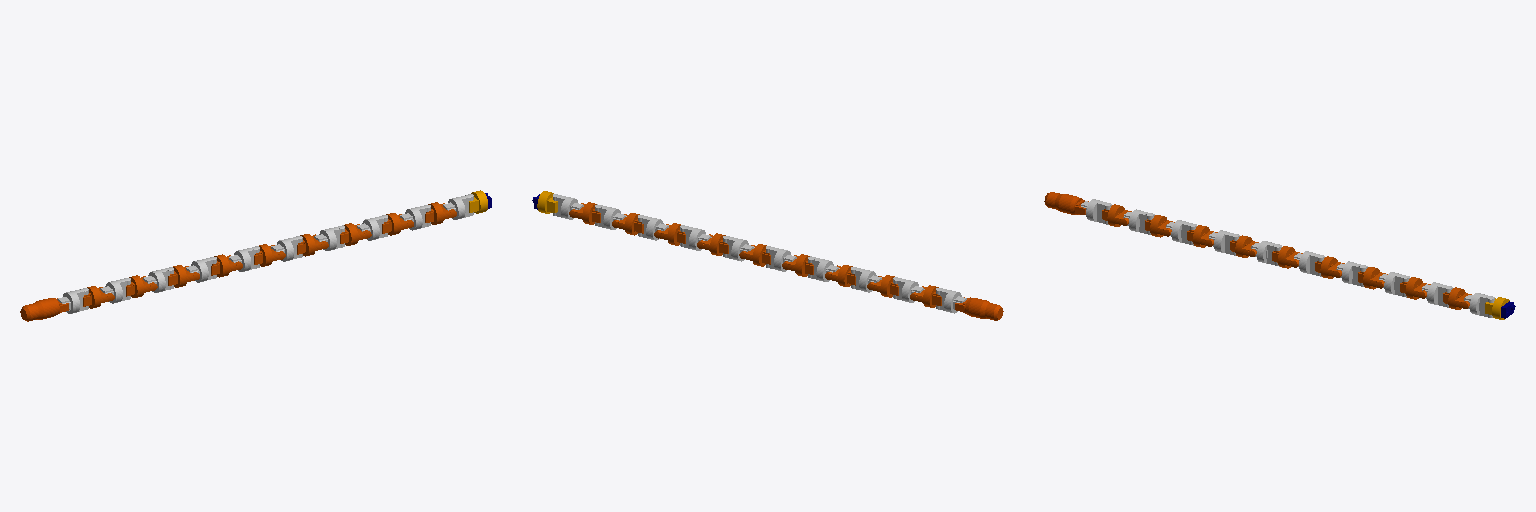
--- Facts derived from the render (not from the file) ---
3 views of the same robot in one strip: view 1: azimuth 30°, elevation 25°; view 2: azimuth 150°, elevation 25°; view 3: azimuth 330°, elevation 25° (orthographic).
Model snakebot with 21 links and 20 joints (20 revolute), rooted at link0, posed all joints at 0.
Visible links, largest first — view 1: tail_link; view 2: tail_link; view 3: tail_link.
Link boxes in pixels (x1,y1,x2,y2): tail_link: (20, 298, 68, 321); tail_link: (955, 297, 1003, 320); tail_link: (1044, 192, 1088, 214).
Bounding box of the posed robot: 1.96 × 0.0828 × 0.0827 m (x, y, z).
21 mesh visuals loaded from 4 distinct referenced files (4 Collada DAE).

The robot description file, URDF, robot "snakebot":
<?xml version="1.0" ?>
<!-- =================================================================================== -->
<!-- |    This document was autogenerated by xacro from snakebot.urdf.xacro            | -->
<!-- |    EDITING THIS FILE BY HAND IS NOT RECOMMENDED                                 | -->
<!-- =================================================================================== -->
<robot name="snakebot" xmlns:xacro="http://ros.org/wiki/xacro">
  <!-- constants -->
  <!-- arbitrary value for link mass -->
  <!-- Square dimensions of links -->
  <!-- Square dimensions of links -->
  <!-- macros -->
  <!-- joint -->
  <!-- head link (GoPro) -->
  <link name="camera_link">
    <visual>
      <geometry>
        <mesh filename="package://snakebot_description/meshes/DAE/head_link.dae"/>
      </geometry>
    </visual>
    <!-- ====== for Gazebo ======  -->
    <collision>
      <geometry>
        <mesh filename="package://snakebot_description/meshes/DAE/head_link.dae"/>
      </geometry>
    </collision>
    <inertial>
      <mass value="0.1"/>
      <inertia ixx="1.0" ixy="0.0" ixz="0.0" iyy="1.0" iyz="0.0" izz="1.0"/>
    </inertial>
    <!-- == == == == == == == == == -->
  </link>
  <!--  joints -->
  <joint name="joint0" type="revolute">
    <parent link="link0"/>
    <child link="camera_link"/>
    <origin xyz="0 0 0"/>
    <axis xyz="0 0 1"/>
    <limit effort="30" lower="-1.3" upper="1.3" velocity="1.571"/>
    <dynamics damping="0.7"/>
  </joint>
  <!-- Tail link -->
  <link name="tail_link">
    <visual>
      <geometry>
        <mesh filename="package://snakebot_description/meshes/DAE/tail_link.dae"/>
      </geometry>
    </visual>
    <!-- ======= for Gazebo ====== -->
    <collision>
      <geometry>
        <mesh filename="package://snakebot_description/meshes/DAE/tail_link.dae"/>
      </geometry>
    </collision>
    <inertial>
      <mass value="0.1"/>
      <inertia ixx="1.0" ixy="0.0" ixz="0.0" iyy="1.0" iyz="0.0" izz="1.0"/>
    </inertial>
    <!-- == == == == == == == == == -->
  </link>
  <!--  joints -->
  <joint name="joint19" type="revolute">
    <parent link="link18"/>
    <child link="tail_link"/>
    <origin xyz="-0.09 0 0"/>
    <axis xyz="0 1 0"/>
    <limit effort="30" lower="-1.3" upper="1.3" velocity="1.571"/>
    <dynamics damping="0.7"/>
  </joint>
  <!-- body units -->
  <link name="link0">
    <visual>
      <geometry>
        <mesh filename="package://snakebot_description/meshes/DAE/pitch_motor_link2.dae"/>
      </geometry>
    </visual>
    <!-- ====== for Gazebo ====== -->
    <collision>
      <geometry>
        <mesh filename="package://snakebot_description/meshes/DAE/pitch_motor_link2.dae"/>
      </geometry>
    </collision>
    <inertial>
      <mass value="0.1"/>
      <inertia ixx="1.0" ixy="0.0" ixz="0.0" iyy="1.0" iyz="0.0" izz="1.0"/>
    </inertial>
    <!-- == == == == == == == == == -->
  </link>
  <joint name="joint1" type="revolute">
    <parent link="link0"/>
    <child link="link1"/>
    <origin xyz="-0.09 0 0"/>
    <axis xyz="0 1 0"/>
    <!-- ====== for Gazebo  ======  -->
    <limit effort="30" lower="-1.3" upper="1.3" velocity="1.571"/>
    <dynamics damping="0.7"/>
    <!-- == == == == == == == == == -->
  </joint>
  <link name="link1">
    <visual>
      <geometry>
        <mesh filename="package://snakebot_description/meshes/DAE/yaw_motor_link2.dae"/>
      </geometry>
    </visual>
    <!-- ====== for Gazebo ====== -->
    <collision>
      <geometry>
        <mesh filename="package://snakebot_description/meshes/DAE/yaw_motor_link2.dae"/>
      </geometry>
    </collision>
    <inertial>
      <mass value="0.1"/>
      <inertia ixx="1.0" ixy="0.0" ixz="0.0" iyy="1.0" iyz="0.0" izz="1.0"/>
    </inertial>
    <!-- == == == == == == == == == -->
  </link>
  <joint name="joint2" type="revolute">
    <parent link="link1"/>
    <child link="link2"/>
    <origin xyz="-0.09 0 0"/>
    <axis xyz="0 0 1"/>
    <!-- ====== for Gazebo  ======  -->
    <limit effort="30" lower="-1.3" upper="1.3" velocity="1.571"/>
    <dynamics damping="0.7"/>
    <!-- == == == == == == == == == -->
  </joint>
  <link name="link2">
    <visual>
      <geometry>
        <mesh filename="package://snakebot_description/meshes/DAE/pitch_motor_link2.dae"/>
      </geometry>
    </visual>
    <!-- ====== for Gazebo ====== -->
    <collision>
      <geometry>
        <mesh filename="package://snakebot_description/meshes/DAE/pitch_motor_link2.dae"/>
      </geometry>
    </collision>
    <inertial>
      <mass value="0.1"/>
      <inertia ixx="1.0" ixy="0.0" ixz="0.0" iyy="1.0" iyz="0.0" izz="1.0"/>
    </inertial>
    <!-- == == == == == == == == == -->
  </link>
  <joint name="joint3" type="revolute">
    <parent link="link2"/>
    <child link="link3"/>
    <origin xyz="-0.09 0 0"/>
    <axis xyz="0 1 0"/>
    <!-- ====== for Gazebo  ======  -->
    <limit effort="30" lower="-1.3" upper="1.3" velocity="1.571"/>
    <dynamics damping="0.7"/>
    <!-- == == == == == == == == == -->
  </joint>
  <link name="link3">
    <visual>
      <geometry>
        <mesh filename="package://snakebot_description/meshes/DAE/yaw_motor_link2.dae"/>
      </geometry>
    </visual>
    <!-- ====== for Gazebo ====== -->
    <collision>
      <geometry>
        <mesh filename="package://snakebot_description/meshes/DAE/yaw_motor_link2.dae"/>
      </geometry>
    </collision>
    <inertial>
      <mass value="0.1"/>
      <inertia ixx="1.0" ixy="0.0" ixz="0.0" iyy="1.0" iyz="0.0" izz="1.0"/>
    </inertial>
    <!-- == == == == == == == == == -->
  </link>
  <joint name="joint4" type="revolute">
    <parent link="link3"/>
    <child link="link4"/>
    <origin xyz="-0.09 0 0"/>
    <axis xyz="0 0 1"/>
    <!-- ====== for Gazebo  ======  -->
    <limit effort="30" lower="-1.3" upper="1.3" velocity="1.571"/>
    <dynamics damping="0.7"/>
    <!-- == == == == == == == == == -->
  </joint>
  <link name="link4">
    <visual>
      <geometry>
        <mesh filename="package://snakebot_description/meshes/DAE/pitch_motor_link2.dae"/>
      </geometry>
    </visual>
    <!-- ====== for Gazebo ====== -->
    <collision>
      <geometry>
        <mesh filename="package://snakebot_description/meshes/DAE/pitch_motor_link2.dae"/>
      </geometry>
    </collision>
    <inertial>
      <mass value="0.1"/>
      <inertia ixx="1.0" ixy="0.0" ixz="0.0" iyy="1.0" iyz="0.0" izz="1.0"/>
    </inertial>
    <!-- == == == == == == == == == -->
  </link>
  <joint name="joint5" type="revolute">
    <parent link="link4"/>
    <child link="link5"/>
    <origin xyz="-0.09 0 0"/>
    <axis xyz="0 1 0"/>
    <!-- ====== for Gazebo  ======  -->
    <limit effort="30" lower="-1.3" upper="1.3" velocity="1.571"/>
    <dynamics damping="0.7"/>
    <!-- == == == == == == == == == -->
  </joint>
  <link name="link5">
    <visual>
      <geometry>
        <mesh filename="package://snakebot_description/meshes/DAE/yaw_motor_link2.dae"/>
      </geometry>
    </visual>
    <!-- ====== for Gazebo ====== -->
    <collision>
      <geometry>
        <mesh filename="package://snakebot_description/meshes/DAE/yaw_motor_link2.dae"/>
      </geometry>
    </collision>
    <inertial>
      <mass value="0.1"/>
      <inertia ixx="1.0" ixy="0.0" ixz="0.0" iyy="1.0" iyz="0.0" izz="1.0"/>
    </inertial>
    <!-- == == == == == == == == == -->
  </link>
  <joint name="joint6" type="revolute">
    <parent link="link5"/>
    <child link="link6"/>
    <origin xyz="-0.09 0 0"/>
    <axis xyz="0 0 1"/>
    <!-- ====== for Gazebo  ======  -->
    <limit effort="30" lower="-1.3" upper="1.3" velocity="1.571"/>
    <dynamics damping="0.7"/>
    <!-- == == == == == == == == == -->
  </joint>
  <link name="link6">
    <visual>
      <geometry>
        <mesh filename="package://snakebot_description/meshes/DAE/pitch_motor_link2.dae"/>
      </geometry>
    </visual>
    <!-- ====== for Gazebo ====== -->
    <collision>
      <geometry>
        <mesh filename="package://snakebot_description/meshes/DAE/pitch_motor_link2.dae"/>
      </geometry>
    </collision>
    <inertial>
      <mass value="0.1"/>
      <inertia ixx="1.0" ixy="0.0" ixz="0.0" iyy="1.0" iyz="0.0" izz="1.0"/>
    </inertial>
    <!-- == == == == == == == == == -->
  </link>
  <joint name="joint7" type="revolute">
    <parent link="link6"/>
    <child link="link7"/>
    <origin xyz="-0.09 0 0"/>
    <axis xyz="0 1 0"/>
    <!-- ====== for Gazebo  ======  -->
    <limit effort="30" lower="-1.3" upper="1.3" velocity="1.571"/>
    <dynamics damping="0.7"/>
    <!-- == == == == == == == == == -->
  </joint>
  <link name="link7">
    <visual>
      <geometry>
        <mesh filename="package://snakebot_description/meshes/DAE/yaw_motor_link2.dae"/>
      </geometry>
    </visual>
    <!-- ====== for Gazebo ====== -->
    <collision>
      <geometry>
        <mesh filename="package://snakebot_description/meshes/DAE/yaw_motor_link2.dae"/>
      </geometry>
    </collision>
    <inertial>
      <mass value="0.1"/>
      <inertia ixx="1.0" ixy="0.0" ixz="0.0" iyy="1.0" iyz="0.0" izz="1.0"/>
    </inertial>
    <!-- == == == == == == == == == -->
  </link>
  <joint name="joint8" type="revolute">
    <parent link="link7"/>
    <child link="link8"/>
    <origin xyz="-0.09 0 0"/>
    <axis xyz="0 0 1"/>
    <!-- ====== for Gazebo  ======  -->
    <limit effort="30" lower="-1.3" upper="1.3" velocity="1.571"/>
    <dynamics damping="0.7"/>
    <!-- == == == == == == == == == -->
  </joint>
  <link name="link8">
    <visual>
      <geometry>
        <mesh filename="package://snakebot_description/meshes/DAE/pitch_motor_link2.dae"/>
      </geometry>
    </visual>
    <!-- ====== for Gazebo ====== -->
    <collision>
      <geometry>
        <mesh filename="package://snakebot_description/meshes/DAE/pitch_motor_link2.dae"/>
      </geometry>
    </collision>
    <inertial>
      <mass value="0.1"/>
      <inertia ixx="1.0" ixy="0.0" ixz="0.0" iyy="1.0" iyz="0.0" izz="1.0"/>
    </inertial>
    <!-- == == == == == == == == == -->
  </link>
  <joint name="joint9" type="revolute">
    <parent link="link8"/>
    <child link="link9"/>
    <origin xyz="-0.09 0 0"/>
    <axis xyz="0 1 0"/>
    <!-- ====== for Gazebo  ======  -->
    <limit effort="30" lower="-1.3" upper="1.3" velocity="1.571"/>
    <dynamics damping="0.7"/>
    <!-- == == == == == == == == == -->
  </joint>
  <link name="link9">
    <visual>
      <geometry>
        <mesh filename="package://snakebot_description/meshes/DAE/yaw_motor_link2.dae"/>
      </geometry>
    </visual>
    <!-- ====== for Gazebo ====== -->
    <collision>
      <geometry>
        <mesh filename="package://snakebot_description/meshes/DAE/yaw_motor_link2.dae"/>
      </geometry>
    </collision>
    <inertial>
      <mass value="0.1"/>
      <inertia ixx="1.0" ixy="0.0" ixz="0.0" iyy="1.0" iyz="0.0" izz="1.0"/>
    </inertial>
    <!-- == == == == == == == == == -->
  </link>
  <joint name="joint10" type="revolute">
    <parent link="link9"/>
    <child link="link10"/>
    <origin xyz="-0.09 0 0"/>
    <axis xyz="0 0 1"/>
    <!-- ====== for Gazebo  ======  -->
    <limit effort="30" lower="-1.3" upper="1.3" velocity="1.571"/>
    <dynamics damping="0.7"/>
    <!-- == == == == == == == == == -->
  </joint>
  <link name="link10">
    <visual>
      <geometry>
        <mesh filename="package://snakebot_description/meshes/DAE/pitch_motor_link2.dae"/>
      </geometry>
    </visual>
    <!-- ====== for Gazebo ====== -->
    <collision>
      <geometry>
        <mesh filename="package://snakebot_description/meshes/DAE/pitch_motor_link2.dae"/>
      </geometry>
    </collision>
    <inertial>
      <mass value="0.1"/>
      <inertia ixx="1.0" ixy="0.0" ixz="0.0" iyy="1.0" iyz="0.0" izz="1.0"/>
    </inertial>
    <!-- == == == == == == == == == -->
  </link>
  <joint name="joint11" type="revolute">
    <parent link="link10"/>
    <child link="link11"/>
    <origin xyz="-0.09 0 0"/>
    <axis xyz="0 1 0"/>
    <!-- ====== for Gazebo  ======  -->
    <limit effort="30" lower="-1.3" upper="1.3" velocity="1.571"/>
    <dynamics damping="0.7"/>
    <!-- == == == == == == == == == -->
  </joint>
  <link name="link11">
    <visual>
      <geometry>
        <mesh filename="package://snakebot_description/meshes/DAE/yaw_motor_link2.dae"/>
      </geometry>
    </visual>
    <!-- ====== for Gazebo ====== -->
    <collision>
      <geometry>
        <mesh filename="package://snakebot_description/meshes/DAE/yaw_motor_link2.dae"/>
      </geometry>
    </collision>
    <inertial>
      <mass value="0.1"/>
      <inertia ixx="1.0" ixy="0.0" ixz="0.0" iyy="1.0" iyz="0.0" izz="1.0"/>
    </inertial>
    <!-- == == == == == == == == == -->
  </link>
  <joint name="joint12" type="revolute">
    <parent link="link11"/>
    <child link="link12"/>
    <origin xyz="-0.09 0 0"/>
    <axis xyz="0 0 1"/>
    <!-- ====== for Gazebo  ======  -->
    <limit effort="30" lower="-1.3" upper="1.3" velocity="1.571"/>
    <dynamics damping="0.7"/>
    <!-- == == == == == == == == == -->
  </joint>
  <link name="link12">
    <visual>
      <geometry>
        <mesh filename="package://snakebot_description/meshes/DAE/pitch_motor_link2.dae"/>
      </geometry>
    </visual>
    <!-- ====== for Gazebo ====== -->
    <collision>
      <geometry>
        <mesh filename="package://snakebot_description/meshes/DAE/pitch_motor_link2.dae"/>
      </geometry>
    </collision>
    <inertial>
      <mass value="0.1"/>
      <inertia ixx="1.0" ixy="0.0" ixz="0.0" iyy="1.0" iyz="0.0" izz="1.0"/>
    </inertial>
    <!-- == == == == == == == == == -->
  </link>
  <joint name="joint13" type="revolute">
    <parent link="link12"/>
    <child link="link13"/>
    <origin xyz="-0.09 0 0"/>
    <axis xyz="0 1 0"/>
    <!-- ====== for Gazebo  ======  -->
    <limit effort="30" lower="-1.3" upper="1.3" velocity="1.571"/>
    <dynamics damping="0.7"/>
    <!-- == == == == == == == == == -->
  </joint>
  <link name="link13">
    <visual>
      <geometry>
        <mesh filename="package://snakebot_description/meshes/DAE/yaw_motor_link2.dae"/>
      </geometry>
    </visual>
    <!-- ====== for Gazebo ====== -->
    <collision>
      <geometry>
        <mesh filename="package://snakebot_description/meshes/DAE/yaw_motor_link2.dae"/>
      </geometry>
    </collision>
    <inertial>
      <mass value="0.1"/>
      <inertia ixx="1.0" ixy="0.0" ixz="0.0" iyy="1.0" iyz="0.0" izz="1.0"/>
    </inertial>
    <!-- == == == == == == == == == -->
  </link>
  <joint name="joint14" type="revolute">
    <parent link="link13"/>
    <child link="link14"/>
    <origin xyz="-0.09 0 0"/>
    <axis xyz="0 0 1"/>
    <!-- ====== for Gazebo  ======  -->
    <limit effort="30" lower="-1.3" upper="1.3" velocity="1.571"/>
    <dynamics damping="0.7"/>
    <!-- == == == == == == == == == -->
  </joint>
  <link name="link14">
    <visual>
      <geometry>
        <mesh filename="package://snakebot_description/meshes/DAE/pitch_motor_link2.dae"/>
      </geometry>
    </visual>
    <!-- ====== for Gazebo ====== -->
    <collision>
      <geometry>
        <mesh filename="package://snakebot_description/meshes/DAE/pitch_motor_link2.dae"/>
      </geometry>
    </collision>
    <inertial>
      <mass value="0.1"/>
      <inertia ixx="1.0" ixy="0.0" ixz="0.0" iyy="1.0" iyz="0.0" izz="1.0"/>
    </inertial>
    <!-- == == == == == == == == == -->
  </link>
  <joint name="joint15" type="revolute">
    <parent link="link14"/>
    <child link="link15"/>
    <origin xyz="-0.09 0 0"/>
    <axis xyz="0 1 0"/>
    <!-- ====== for Gazebo  ======  -->
    <limit effort="30" lower="-1.3" upper="1.3" velocity="1.571"/>
    <dynamics damping="0.7"/>
    <!-- == == == == == == == == == -->
  </joint>
  <link name="link15">
    <visual>
      <geometry>
        <mesh filename="package://snakebot_description/meshes/DAE/yaw_motor_link2.dae"/>
      </geometry>
    </visual>
    <!-- ====== for Gazebo ====== -->
    <collision>
      <geometry>
        <mesh filename="package://snakebot_description/meshes/DAE/yaw_motor_link2.dae"/>
      </geometry>
    </collision>
    <inertial>
      <mass value="0.1"/>
      <inertia ixx="1.0" ixy="0.0" ixz="0.0" iyy="1.0" iyz="0.0" izz="1.0"/>
    </inertial>
    <!-- == == == == == == == == == -->
  </link>
  <joint name="joint16" type="revolute">
    <parent link="link15"/>
    <child link="link16"/>
    <origin xyz="-0.09 0 0"/>
    <axis xyz="0 0 1"/>
    <!-- ====== for Gazebo  ======  -->
    <limit effort="30" lower="-1.3" upper="1.3" velocity="1.571"/>
    <dynamics damping="0.7"/>
    <!-- == == == == == == == == == -->
  </joint>
  <link name="link16">
    <visual>
      <geometry>
        <mesh filename="package://snakebot_description/meshes/DAE/pitch_motor_link2.dae"/>
      </geometry>
    </visual>
    <!-- ====== for Gazebo ====== -->
    <collision>
      <geometry>
        <mesh filename="package://snakebot_description/meshes/DAE/pitch_motor_link2.dae"/>
      </geometry>
    </collision>
    <inertial>
      <mass value="0.1"/>
      <inertia ixx="1.0" ixy="0.0" ixz="0.0" iyy="1.0" iyz="0.0" izz="1.0"/>
    </inertial>
    <!-- == == == == == == == == == -->
  </link>
  <joint name="joint17" type="revolute">
    <parent link="link16"/>
    <child link="link17"/>
    <origin xyz="-0.09 0 0"/>
    <axis xyz="0 1 0"/>
    <!-- ====== for Gazebo  ======  -->
    <limit effort="30" lower="-1.3" upper="1.3" velocity="1.571"/>
    <dynamics damping="0.7"/>
    <!-- == == == == == == == == == -->
  </joint>
  <link name="link17">
    <visual>
      <geometry>
        <mesh filename="package://snakebot_description/meshes/DAE/yaw_motor_link2.dae"/>
      </geometry>
    </visual>
    <!-- ====== for Gazebo ====== -->
    <collision>
      <geometry>
        <mesh filename="package://snakebot_description/meshes/DAE/yaw_motor_link2.dae"/>
      </geometry>
    </collision>
    <inertial>
      <mass value="0.1"/>
      <inertia ixx="1.0" ixy="0.0" ixz="0.0" iyy="1.0" iyz="0.0" izz="1.0"/>
    </inertial>
    <!-- == == == == == == == == == -->
  </link>
  <joint name="joint18" type="revolute">
    <parent link="link17"/>
    <child link="link18"/>
    <origin xyz="-0.09 0 0"/>
    <axis xyz="0 0 1"/>
    <!-- ====== for Gazebo  ======  -->
    <limit effort="30" lower="-1.3" upper="1.3" velocity="1.571"/>
    <dynamics damping="0.7"/>
    <!-- == == == == == == == == == -->
  </joint>
  <link name="link18">
    <visual>
      <geometry>
        <mesh filename="package://snakebot_description/meshes/DAE/pitch_motor_link2.dae"/>
      </geometry>
    </visual>
    <!-- ====== for Gazebo ====== -->
    <collision>
      <geometry>
        <mesh filename="package://snakebot_description/meshes/DAE/pitch_motor_link2.dae"/>
      </geometry>
    </collision>
    <inertial>
      <mass value="0.1"/>
      <inertia ixx="1.0" ixy="0.0" ixz="0.0" iyy="1.0" iyz="0.0" izz="1.0"/>
    </inertial>
    <!-- == == == == == == == == == -->
  </link>
  <!-- <xacro:snakebot_joint index="21" pl_index="20" isPitch="true"/> -->
  <!-- <xacro:snakebot_link index="21" isHead="false" isMotorLink="false"/>-->
  <!-- <xacro:snakebot_joint index="22" pl_index="21" isPitch="false"/> -->
  <!-- <xacro:snakebot_link index="22" isHead="false" isMotorLink="true"/> -->
  <!-- <xacro:snakebot_joint index="23" pl_index="22" isPitch="true"/> -->
  <!-- <xacro:snakebot_link index="23" isHead="false" isMotorLink="false"/> -->
  <!-- <xacro:snakebot_joint index="24" pl_index="23" isPitch="false"/> -->
  <!-- <xacro:snakebot_link index="24" isHead="false" isMotorLink="true"/> -->
  <!-- <xacro:snakebot_joint index="25" pl_index="24" isPitch="true"/> -->
  <!-- <xacro:snakebot_link index="25" isHead="false" isMotorLink="false"/> -->
  <!-- <xacro:snakebot_joint index="26" pl_index="25" isPitch="false"/> -->
  <!-- <xacro:snakebot_link index="26" isHead="false" isMotorLink="true"/> -->
  <!-- <xacro:snakebot_joint index="27" pl_index="26" isPitch="true"/> -->
  <!-- <xacro:snakebot_link index="27" isHead="false" isMotorLink="false"/> -->
  <!-- <xacro:snakebot_joint index="28" pl_index="27" isPitch="false"/> -->
  <!-- <xacro:snakebot_link index="28" isHead="false" isMotorLink="true"/> -->
  <!-- <xacro:snakebot_joint index="29" pl_index="28" isPitch="true"/> -->
  <!-- <xacro:snakebot_link index="29" isHead="false" isMotorLink="false"/> -->
  <!-- <xacro:snakebot_joint index="30" pl_index="29" isPitch="false"/> -->
  <!-- <xacro:snakebot_link index="30" isHead="false" isMotorLink="true"/> -->
  <!-- tail unit must be here -->
  <!-- =============== Gazebo =============== -->
  <gazebo>
    <plugin filename="libgazebo_ros_control.so" name="gazebo_ros_control">
      <robotNamespace>snakebot</robotNamespace>
      <robotSimType>gazebo_ros_control/DefaultRobotHWSim</robotSimType>
    </plugin>
  </gazebo>
  <gazebo reference="camera_link">
    <selfCollide>true</selfCollide>
    <mu1 value="0.05"/>
    <mu2 value="0.05"/>
  </gazebo>
  <transmission name="tran_camera">
    <type>transmission_interface/SimpleTransmission</type>
    <joint name="joint0">
      <hardwareInterface>EffortJointInterface</hardwareInterface>
    </joint>
    <actuator name="motor_camera">
      <hardwareInterface>EffortJointInterface</hardwareInterface>
      <mechanicalReduction>1</mechanicalReduction>
    </actuator>
  </transmission>
  <!-- body units -->
  <gazebo reference="link1">
    <selfCollide>true</selfCollide>
    <mu1 value="0.05"/>
    <mu2 value="0.05"/>
  </gazebo>
  <transmission name="tran1">
    <type>transmission_interface/SimpleTransmission</type>
    <joint name="joint1">
      <hardwareInterface>EffortJointInterface</hardwareInterface>
    </joint>
    <actuator name="{motor_name}1">
      <hardwareInterface>EffortJointInterface</hardwareInterface>
      <mechanicalReduction>1</mechanicalReduction>
    </actuator>
  </transmission>
  <gazebo reference="link2">
    <selfCollide>true</selfCollide>
    <mu1 value="0.05"/>
    <mu2 value="0.05"/>
  </gazebo>
  <transmission name="tran2">
    <type>transmission_interface/SimpleTransmission</type>
    <joint name="joint2">
      <hardwareInterface>EffortJointInterface</hardwareInterface>
    </joint>
    <actuator name="{motor_name}2">
      <hardwareInterface>EffortJointInterface</hardwareInterface>
      <mechanicalReduction>1</mechanicalReduction>
    </actuator>
  </transmission>
  <gazebo reference="link3">
    <selfCollide>true</selfCollide>
    <mu1 value="0.05"/>
    <mu2 value="0.05"/>
  </gazebo>
  <transmission name="tran3">
    <type>transmission_interface/SimpleTransmission</type>
    <joint name="joint3">
      <hardwareInterface>EffortJointInterface</hardwareInterface>
    </joint>
    <actuator name="{motor_name}3">
      <hardwareInterface>EffortJointInterface</hardwareInterface>
      <mechanicalReduction>1</mechanicalReduction>
    </actuator>
  </transmission>
  <gazebo reference="link4">
    <selfCollide>true</selfCollide>
    <mu1 value="0.05"/>
    <mu2 value="0.05"/>
  </gazebo>
  <transmission name="tran4">
    <type>transmission_interface/SimpleTransmission</type>
    <joint name="joint4">
      <hardwareInterface>EffortJointInterface</hardwareInterface>
    </joint>
    <actuator name="{motor_name}4">
      <hardwareInterface>EffortJointInterface</hardwareInterface>
      <mechanicalReduction>1</mechanicalReduction>
    </actuator>
  </transmission>
  <gazebo reference="link5">
    <selfCollide>true</selfCollide>
    <mu1 value="0.05"/>
    <mu2 value="0.05"/>
  </gazebo>
  <transmission name="tran5">
    <type>transmission_interface/SimpleTransmission</type>
    <joint name="joint5">
      <hardwareInterface>EffortJointInterface</hardwareInterface>
    </joint>
    <actuator name="{motor_name}5">
      <hardwareInterface>EffortJointInterface</hardwareInterface>
      <mechanicalReduction>1</mechanicalReduction>
    </actuator>
  </transmission>
  <gazebo reference="link6">
    <selfCollide>true</selfCollide>
    <mu1 value="0.05"/>
    <mu2 value="0.05"/>
  </gazebo>
  <transmission name="tran6">
    <type>transmission_interface/SimpleTransmission</type>
    <joint name="joint6">
      <hardwareInterface>EffortJointInterface</hardwareInterface>
    </joint>
    <actuator name="{motor_name}6">
      <hardwareInterface>EffortJointInterface</hardwareInterface>
      <mechanicalReduction>1</mechanicalReduction>
    </actuator>
  </transmission>
  <gazebo reference="link7">
    <selfCollide>true</selfCollide>
    <mu1 value="0.05"/>
    <mu2 value="0.05"/>
  </gazebo>
  <transmission name="tran7">
    <type>transmission_interface/SimpleTransmission</type>
    <joint name="joint7">
      <hardwareInterface>EffortJointInterface</hardwareInterface>
    </joint>
    <actuator name="{motor_name}7">
      <hardwareInterface>EffortJointInterface</hardwareInterface>
      <mechanicalReduction>1</mechanicalReduction>
    </actuator>
  </transmission>
  <gazebo reference="link8">
    <selfCollide>true</selfCollide>
    <mu1 value="0.05"/>
    <mu2 value="0.05"/>
  </gazebo>
  <transmission name="tran8">
    <type>transmission_interface/SimpleTransmission</type>
    <joint name="joint8">
      <hardwareInterface>EffortJointInterface</hardwareInterface>
    </joint>
    <actuator name="{motor_name}8">
      <hardwareInterface>EffortJointInterface</hardwareInterface>
      <mechanicalReduction>1</mechanicalReduction>
    </actuator>
  </transmission>
  <gazebo reference="link9">
    <selfCollide>true</selfCollide>
    <mu1 value="0.05"/>
    <mu2 value="0.05"/>
  </gazebo>
  <transmission name="tran9">
    <type>transmission_interface/SimpleTransmission</type>
    <joint name="joint9">
      <hardwareInterface>EffortJointInterface</hardwareInterface>
    </joint>
    <actuator name="{motor_name}9">
      <hardwareInterface>EffortJointInterface</hardwareInterface>
      <mechanicalReduction>1</mechanicalReduction>
    </actuator>
  </transmission>
  <gazebo reference="link10">
    <selfCollide>true</selfCollide>
    <mu1 value="0.05"/>
    <mu2 value="0.05"/>
  </gazebo>
  <transmission name="tran10">
    <type>transmission_interface/SimpleTransmission</type>
    <joint name="joint10">
      <hardwareInterface>EffortJointInterface</hardwareInterface>
    </joint>
    <actuator name="{motor_name}10">
      <hardwareInterface>EffortJointInterface</hardwareInterface>
      <mechanicalReduction>1</mechanicalReduction>
    </actuator>
  </transmission>
  <gazebo reference="link11">
    <selfCollide>true</selfCollide>
    <mu1 value="0.05"/>
    <mu2 value="0.05"/>
  </gazebo>
  <transmission name="tran11">
    <type>transmission_interface/SimpleTransmission</type>
    <joint name="joint11">
      <hardwareInterface>EffortJointInterface</hardwareInterface>
    </joint>
    <actuator name="{motor_name}11">
      <hardwareInterface>EffortJointInterface</hardwareInterface>
      <mechanicalReduction>1</mechanicalReduction>
    </actuator>
  </transmission>
  <gazebo reference="link12">
    <selfCollide>true</selfCollide>
    <mu1 value="0.05"/>
    <mu2 value="0.05"/>
  </gazebo>
  <transmission name="tran12">
    <type>transmission_interface/SimpleTransmission</type>
    <joint name="joint12">
      <hardwareInterface>EffortJointInterface</hardwareInterface>
    </joint>
    <actuator name="{motor_name}12">
      <hardwareInterface>EffortJointInterface</hardwareInterface>
      <mechanicalReduction>1</mechanicalReduction>
    </actuator>
  </transmission>
  <gazebo reference="link13">
    <selfCollide>true</selfCollide>
    <mu1 value="0.05"/>
    <mu2 value="0.05"/>
  </gazebo>
  <transmission name="tran13">
    <type>transmission_interface/SimpleTransmission</type>
    <joint name="joint13">
      <hardwareInterface>EffortJointInterface</hardwareInterface>
    </joint>
    <actuator name="{motor_name}13">
      <hardwareInterface>EffortJointInterface</hardwareInterface>
      <mechanicalReduction>1</mechanicalReduction>
    </actuator>
  </transmission>
  <gazebo reference="link14">
    <selfCollide>true</selfCollide>
    <mu1 value="0.05"/>
    <mu2 value="0.05"/>
  </gazebo>
  <transmission name="tran14">
    <type>transmission_interface/SimpleTransmission</type>
    <joint name="joint14">
      <hardwareInterface>EffortJointInterface</hardwareInterface>
    </joint>
    <actuator name="{motor_name}14">
      <hardwareInterface>EffortJointInterface</hardwareInterface>
      <mechanicalReduction>1</mechanicalReduction>
    </actuator>
  </transmission>
  <gazebo reference="link15">
    <selfCollide>true</selfCollide>
    <mu1 value="0.05"/>
    <mu2 value="0.05"/>
  </gazebo>
  <transmission name="tran15">
    <type>transmission_interface/SimpleTransmission</type>
    <joint name="joint15">
      <hardwareInterface>EffortJointInterface</hardwareInterface>
    </joint>
    <actuator name="{motor_name}15">
      <hardwareInterface>EffortJointInterface</hardwareInterface>
      <mechanicalReduction>1</mechanicalReduction>
    </actuator>
  </transmission>
  <gazebo reference="link16">
    <selfCollide>true</selfCollide>
    <mu1 value="0.05"/>
    <mu2 value="0.05"/>
  </gazebo>
  <transmission name="tran16">
    <type>transmission_interface/SimpleTransmission</type>
    <joint name="joint16">
      <hardwareInterface>EffortJointInterface</hardwareInterface>
    </joint>
    <actuator name="{motor_name}16">
      <hardwareInterface>EffortJointInterface</hardwareInterface>
      <mechanicalReduction>1</mechanicalReduction>
    </actuator>
  </transmission>
  <gazebo reference="link17">
    <selfCollide>true</selfCollide>
    <mu1 value="0.05"/>
    <mu2 value="0.05"/>
  </gazebo>
  <transmission name="tran17">
    <type>transmission_interface/SimpleTransmission</type>
    <joint name="joint17">
      <hardwareInterface>EffortJointInterface</hardwareInterface>
    </joint>
    <actuator name="{motor_name}17">
      <hardwareInterface>EffortJointInterface</hardwareInterface>
      <mechanicalReduction>1</mechanicalReduction>
    </actuator>
  </transmission>
  <gazebo reference="link18">
    <selfCollide>true</selfCollide>
    <mu1 value="0.05"/>
    <mu2 value="0.05"/>
  </gazebo>
  <transmission name="tran18">
    <type>transmission_interface/SimpleTransmission</type>
    <joint name="joint18">
      <hardwareInterface>EffortJointInterface</hardwareInterface>
    </joint>
    <actuator name="{motor_name}18">
      <hardwareInterface>EffortJointInterface</hardwareInterface>
      <mechanicalReduction>1</mechanicalReduction>
    </actuator>
  </transmission>
  <gazebo reference="link19">
    <selfCollide>true</selfCollide>
    <mu1 value="0.05"/>
    <mu2 value="0.05"/>
  </gazebo>
  <transmission name="tran19">
    <type>transmission_interface/SimpleTransmission</type>
    <joint name="joint19">
      <hardwareInterface>EffortJointInterface</hardwareInterface>
    </joint>
    <actuator name="{motor_name}19">
      <hardwareInterface>EffortJointInterface</hardwareInterface>
      <mechanicalReduction>1</mechanicalReduction>
    </actuator>
  </transmission>
  <!-- <xacro:link_num index="21"/> -->
  <!-- <xacro:link_num index="22"/> -->
  <!-- <xacro:link_num index="23"/> -->
  <!-- <xacro:link_num index="24"/> -->
  <!-- <xacro:link_num index="25"/> -->
  <!-- <xacro:link_num index="26"/> -->
  <!-- <xacro:link_num index="27"/> -->
  <!-- <xacro:link_num index="28"/> -->
  <!-- <xacro:link_num index="29"/> -->
  <!-- <xacro:link_num index="30"/> -->
</robot>
